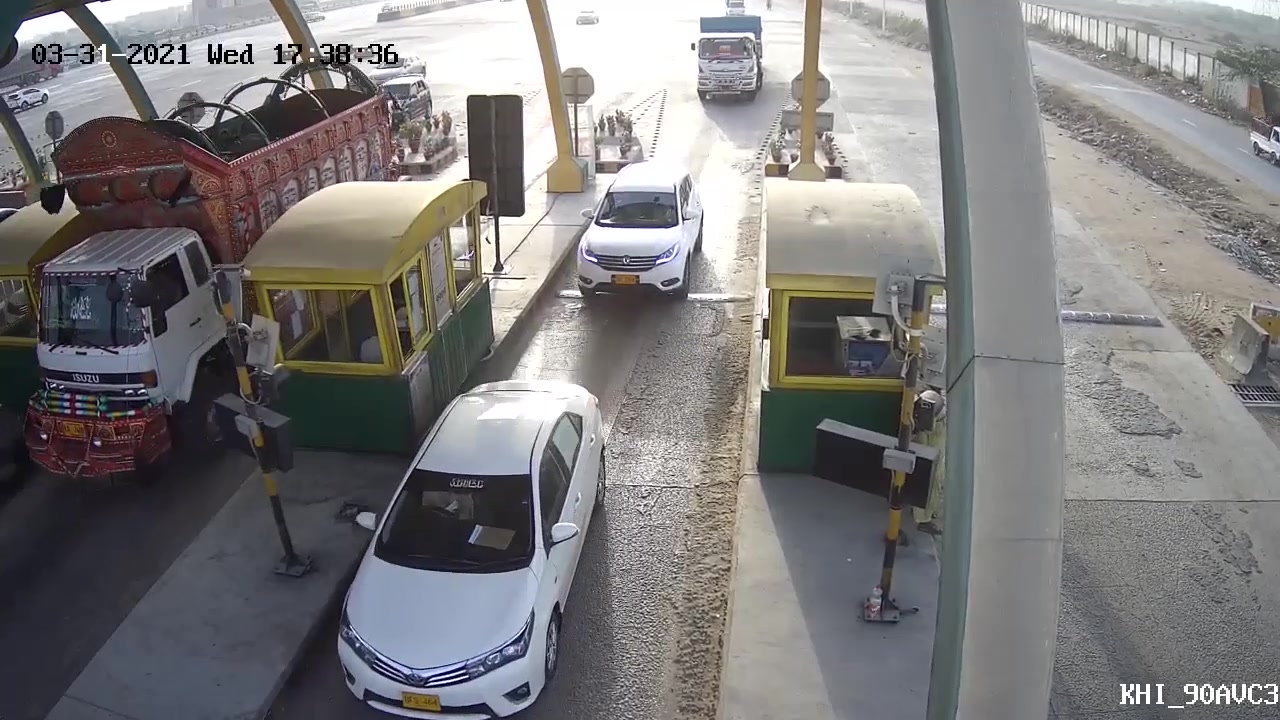F1: (322, 360, 621, 720), (569, 153, 714, 317)
